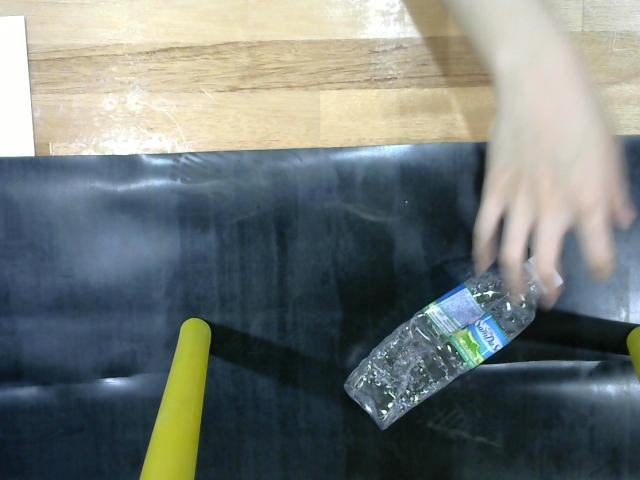bottle: (342, 255, 569, 436)
